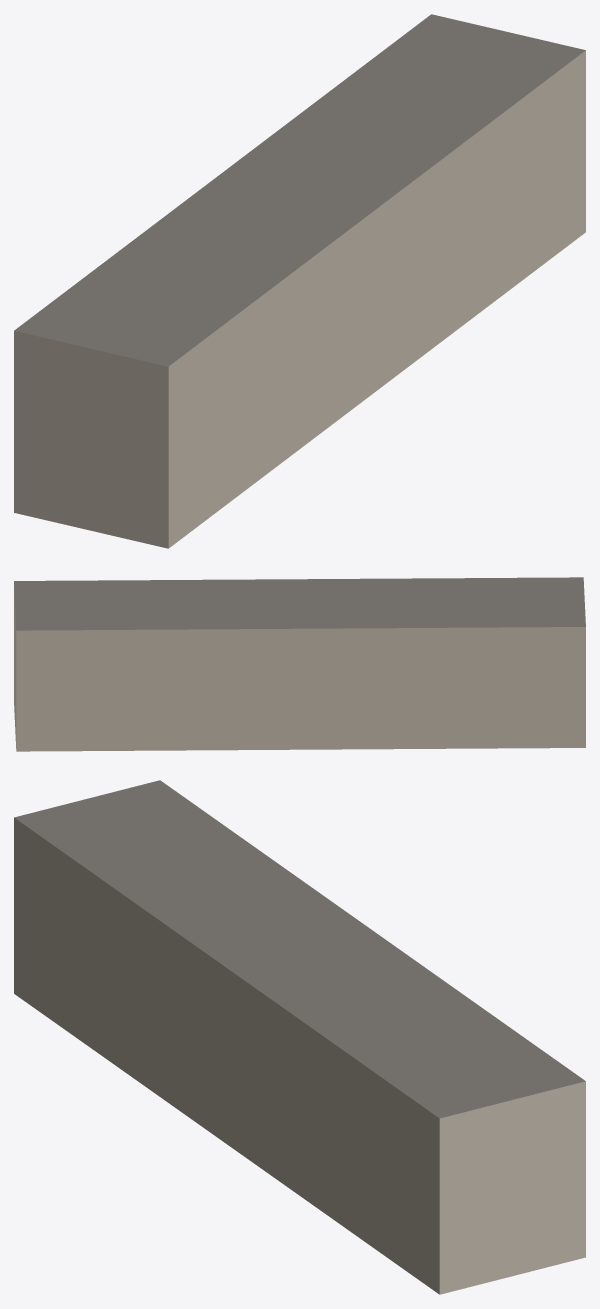
3 renders of one model, top to bottom at view 1: azimuth 30°, elevation 25°; view 2: azimuth 150°, elevation 25°; view 3: azimuth 270°, elevation 25°, orthographic. The views are drawn at different scales.
Visible parts, largest first — view 1: HP-w859088534; view 2: HP-w859088534; view 3: HP-w859088534.
Boxes of the visible parts, x1,y1,x2,y2 form: HP-w859088534: [14, 14, 585, 548]; HP-w859088534: [14, 577, 585, 751]; HP-w859088534: [14, 780, 585, 1294].
Size of the model in its own units: 74.11 by 18 by 52.94.
